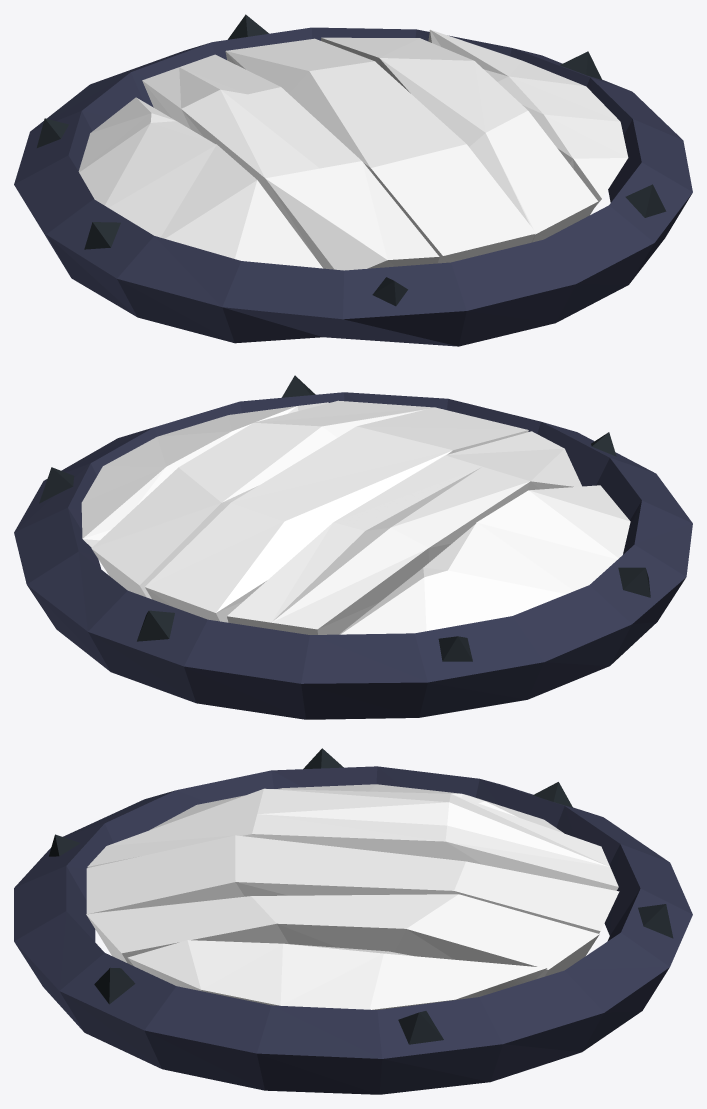
Rendered from Shield01.FBX.
3 views of the same model, one above another, from view 1: azimuth 30°, elevation 25°; view 2: azimuth 150°, elevation 25°; view 3: azimuth 270°, elevation 25° (orthographic).
Visible parts, largest first — view 1: Torus002; view 2: Torus002; view 3: Torus002.
Boxes of the visible parts, box(x1,y1,x2,y2) form: Torus002: box(14, 14, 692, 346); Torus002: box(14, 375, 692, 719); Torus002: box(14, 748, 692, 1094).
Bounding box in the file's own units: 87.77 × 16.94 × 87.47.
